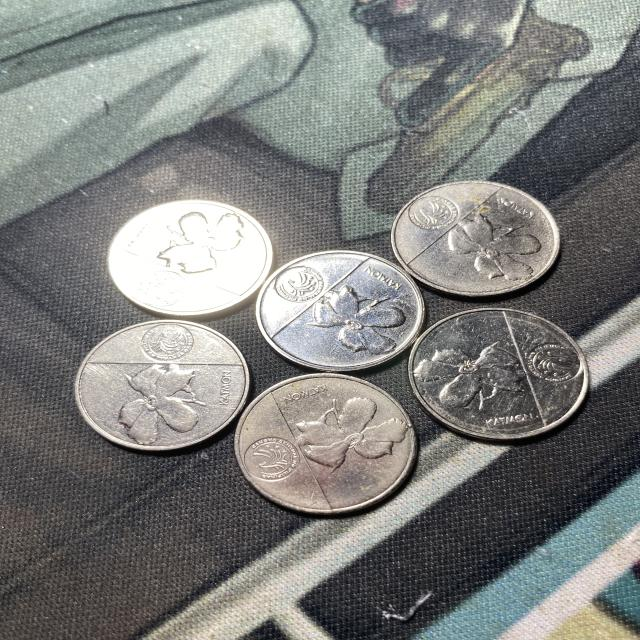25Cent_New_Back: (414, 330, 524, 438), (291, 386, 401, 480), (444, 205, 554, 297), (307, 279, 416, 368), (109, 360, 208, 457)
